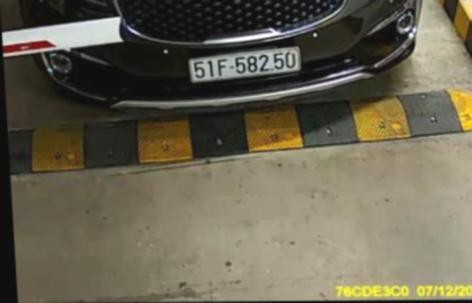License_Plate: (182, 43, 322, 87)
